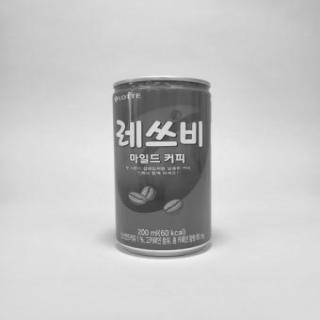alumunium_can: (111, 79, 222, 265)
